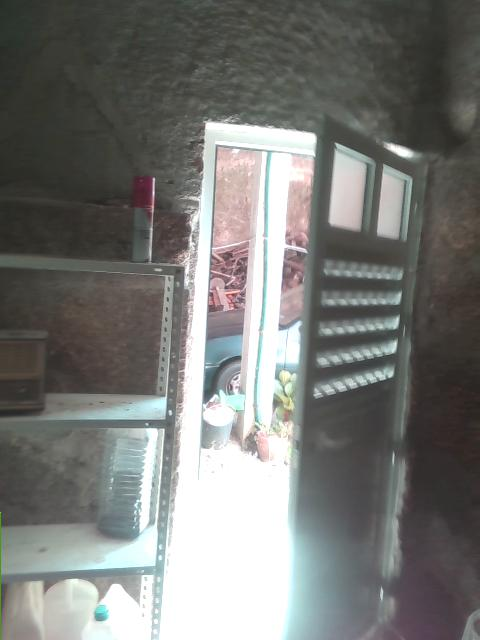semi_door: (168, 110, 434, 639)
